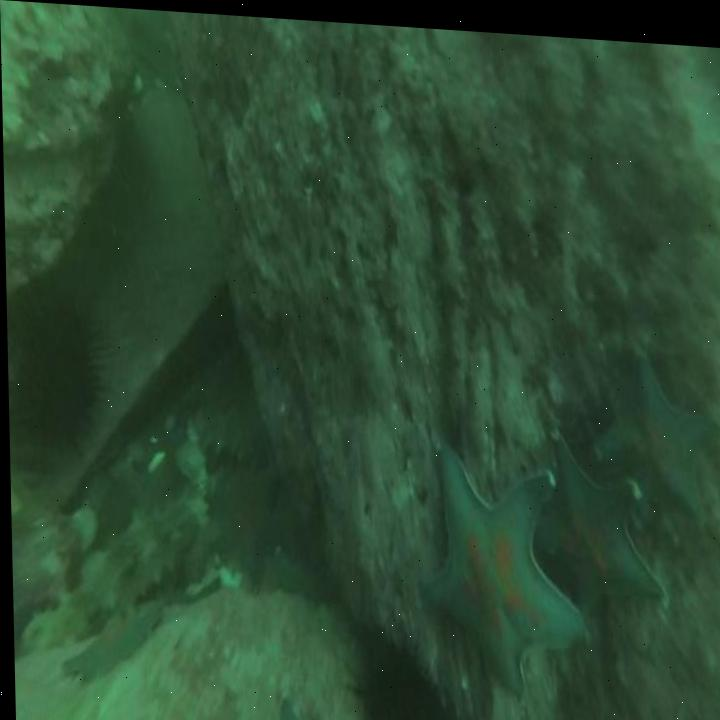echinus: (5, 276, 104, 467), (349, 622, 448, 720)
holothurian: (34, 485, 196, 653), (184, 390, 274, 465)
starfish: (411, 428, 582, 699), (533, 421, 666, 621), (589, 335, 712, 542), (57, 594, 159, 692)
